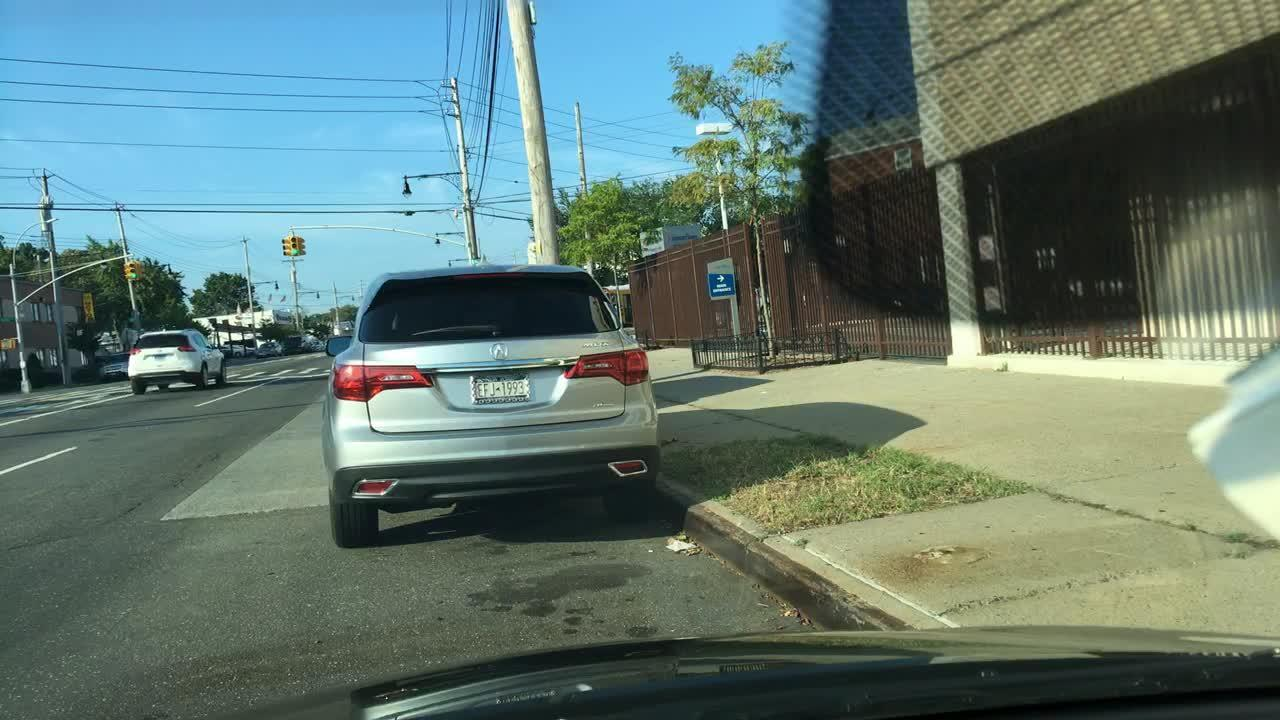acura: (484, 335, 515, 361)
